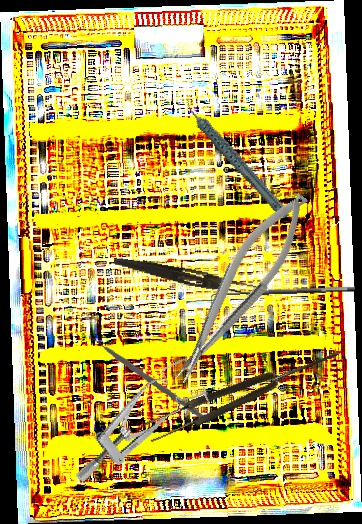Chopper: (84, 324, 216, 424)
Dressing Forceps: (112, 255, 257, 297)
Handpiece: (183, 81, 291, 235)
Hook Surgical: (210, 284, 356, 308)
Needle Holder: (155, 183, 324, 391)
Speculum: (50, 355, 220, 485)
Tissue Forceps: (142, 342, 344, 445)
